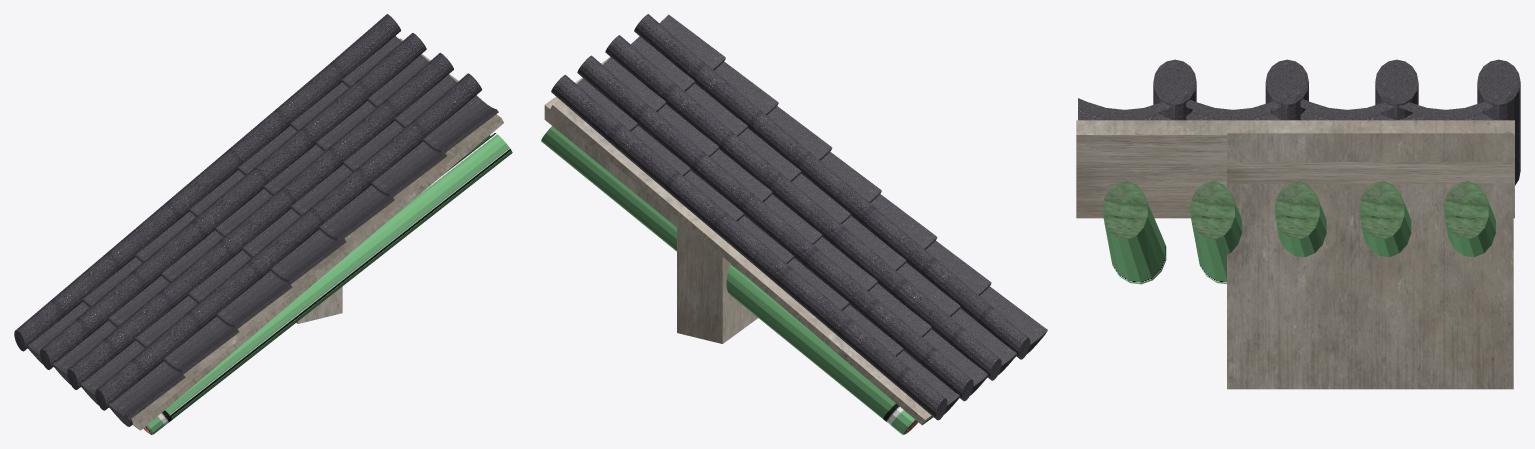
The model's file is SM_Roof_33.fbx.
The picture shows the model from 3 angles, left to right: view 1: azimuth 30°, elevation 25°; view 2: azimuth 150°, elevation 25°; view 3: azimuth 270°, elevation 25°; orthographic projection. The views are drawn at different scales.
Parts seen in each view (by area): view 1: SM_Roof_33; view 2: SM_Roof_33; view 3: SM_Roof_33.
Boxes of the visible parts, x1=… form: SM_Roof_33: x1=14, y1=14, x2=512, y2=434; SM_Roof_33: x1=541, y1=14, x2=1047, y2=434; SM_Roof_33: x1=1076, y1=59, x2=1520, y2=389.
Size of the model in its own units: 314 by 152 by 205.
5 materials, 5 textured.
